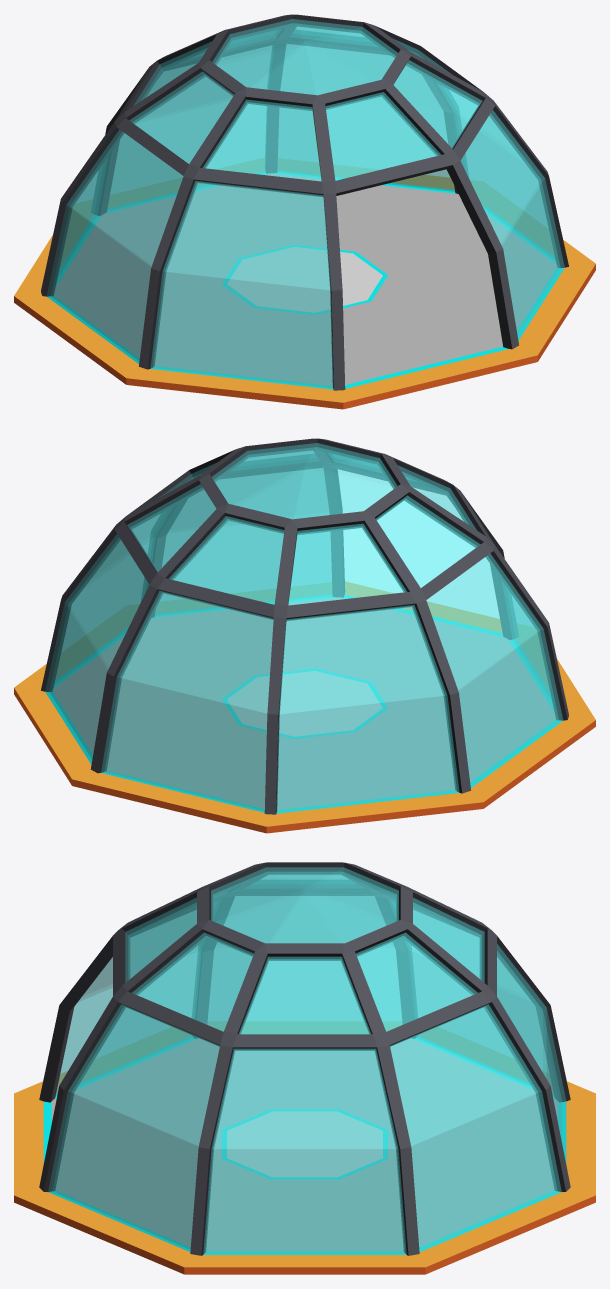
File: GreenHouse_01.glb
The picture shows the model from 3 angles, top to bottom: view 1: azimuth 30°, elevation 25°; view 2: azimuth 150°, elevation 25°; view 3: azimuth 270°, elevation 25°; orthographic projection. The views are drawn at different scales.
Parts seen in each view (by area): view 1: GreenHouse_01; view 2: GreenHouse_01; view 3: GreenHouse_01.
Boxes of the visible parts, left/top/right/bottom form: GreenHouse_01: left=14, top=14, right=595, bottom=409; GreenHouse_01: left=14, top=438, right=595, bottom=833; GreenHouse_01: left=14, top=862, right=595, bottom=1274.
Size of what is drawn, in the model's own units: 9.23 by 4.6 by 9.23.
Materials: 2 (2 with a texture image).
